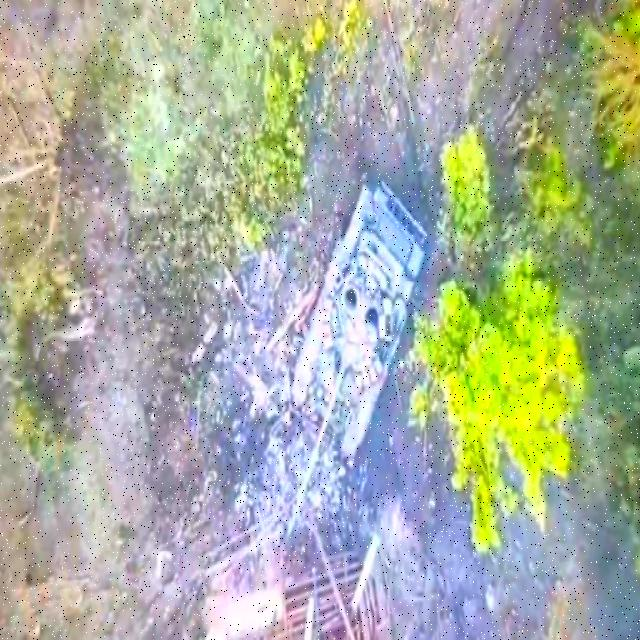TANK: (278, 165, 434, 544)
